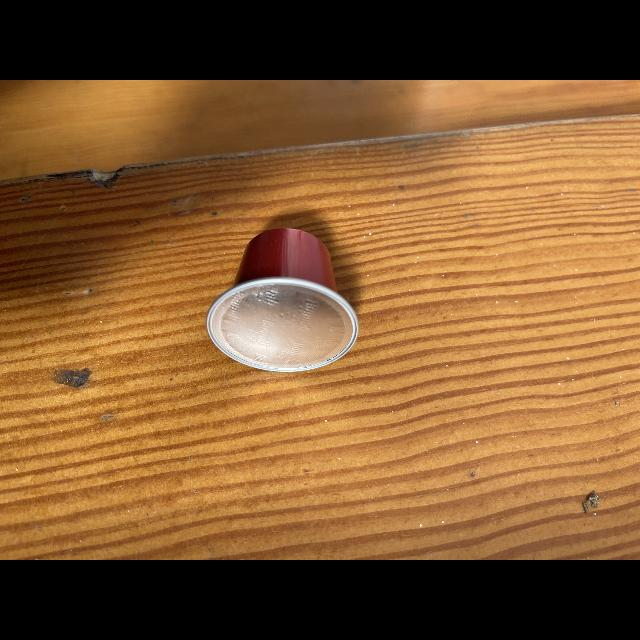intact_capsule: (194, 220, 368, 398)
